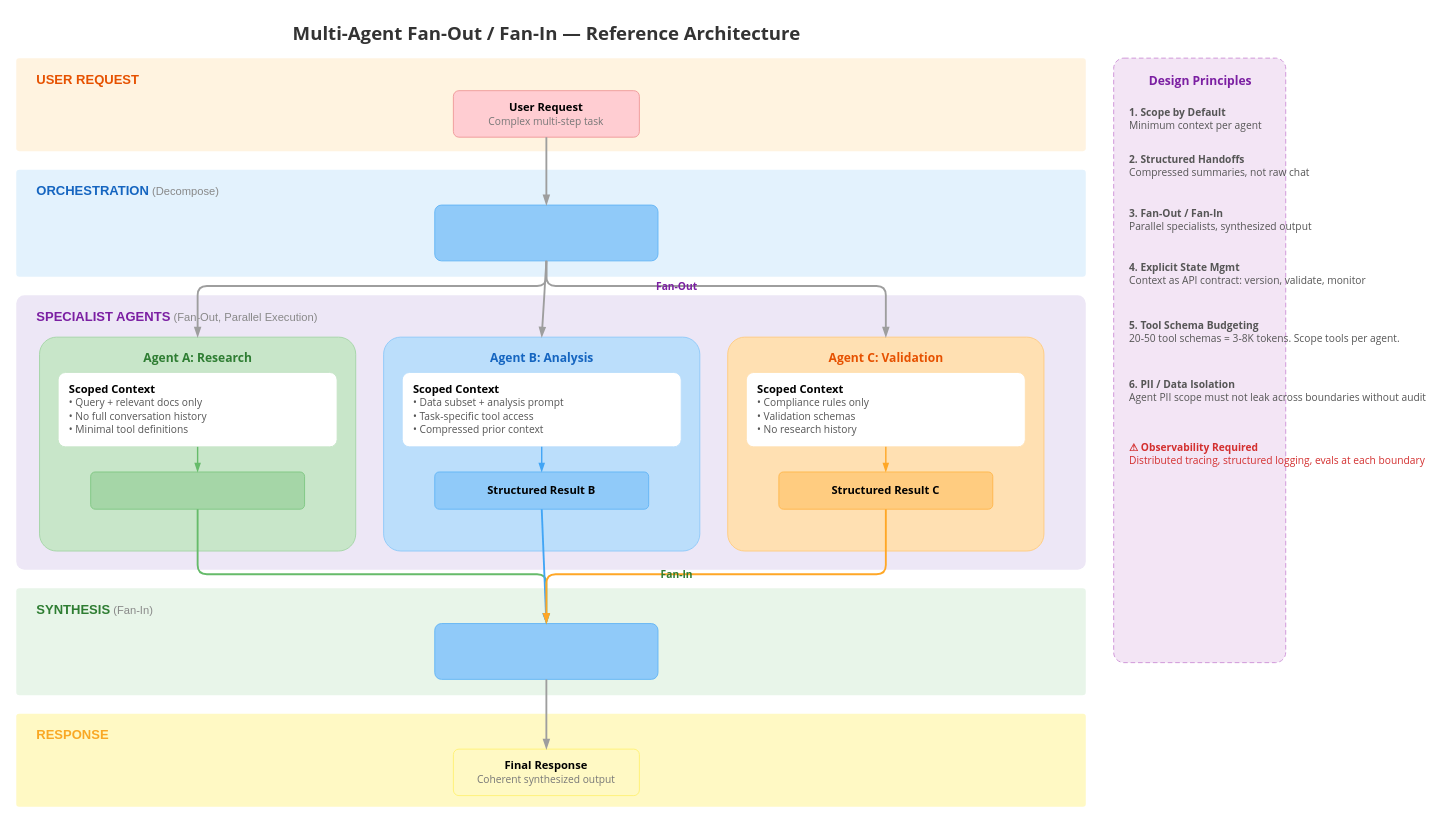
Some shapes in this 1442 by 822 pixel diagram are drawn without their labels. Each missing label, with the box of its shape:
Orchestrator Agent Task decomposition Context scoping: (434, 204, 658, 261)
Orchestrator Synthesize results Structured handoff summaries: (434, 623, 658, 679)
Structured Result A: (90, 471, 305, 509)
